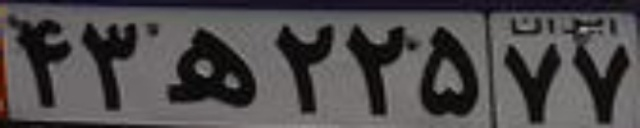2: (342, 25, 406, 114), (274, 23, 332, 113)
3: (82, 19, 141, 111)
4: (17, 18, 78, 108)
5: (416, 24, 479, 116)
7: (501, 41, 564, 124), (569, 42, 632, 124)
he: (160, 26, 259, 109)
